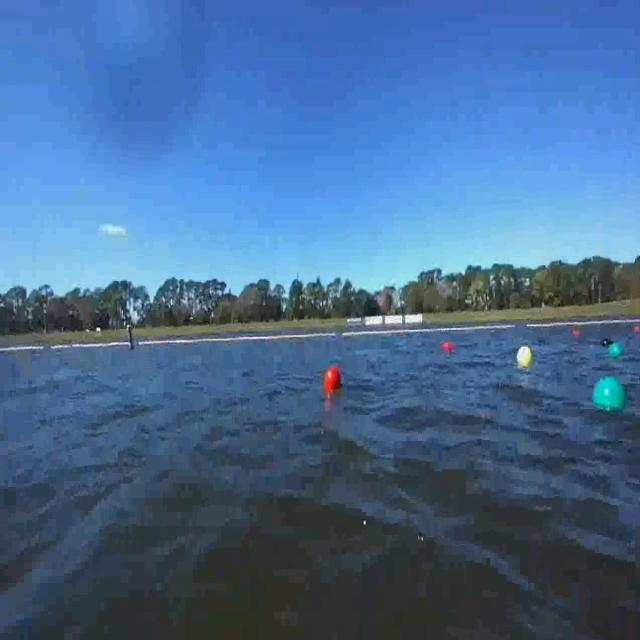green-buoy: (591, 376, 627, 414), (608, 344, 621, 359)
red-buoy: (328, 366, 346, 391), (444, 342, 454, 354), (633, 325, 640, 332)
yellow-buoy: (515, 346, 531, 370)
